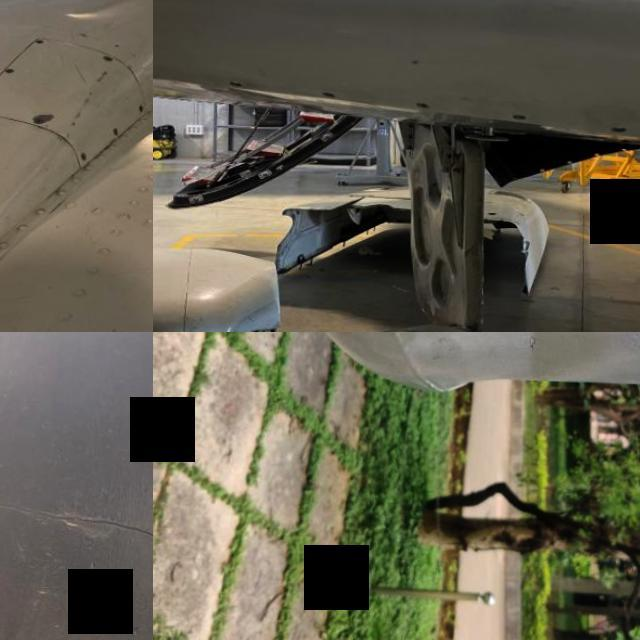Crack: (0, 461, 153, 640)
Dent: (47, 0, 153, 26)
Missing_Fastener: (504, 113, 524, 124), (411, 101, 431, 112), (606, 127, 626, 136), (226, 79, 242, 90), (320, 89, 334, 101)
